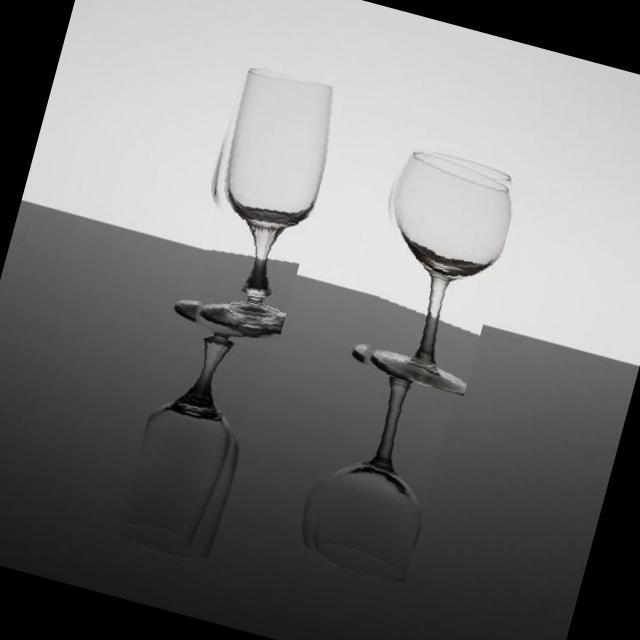Glass: (167, 61, 346, 351), (342, 140, 523, 396), (115, 325, 269, 565), (296, 364, 454, 584)
